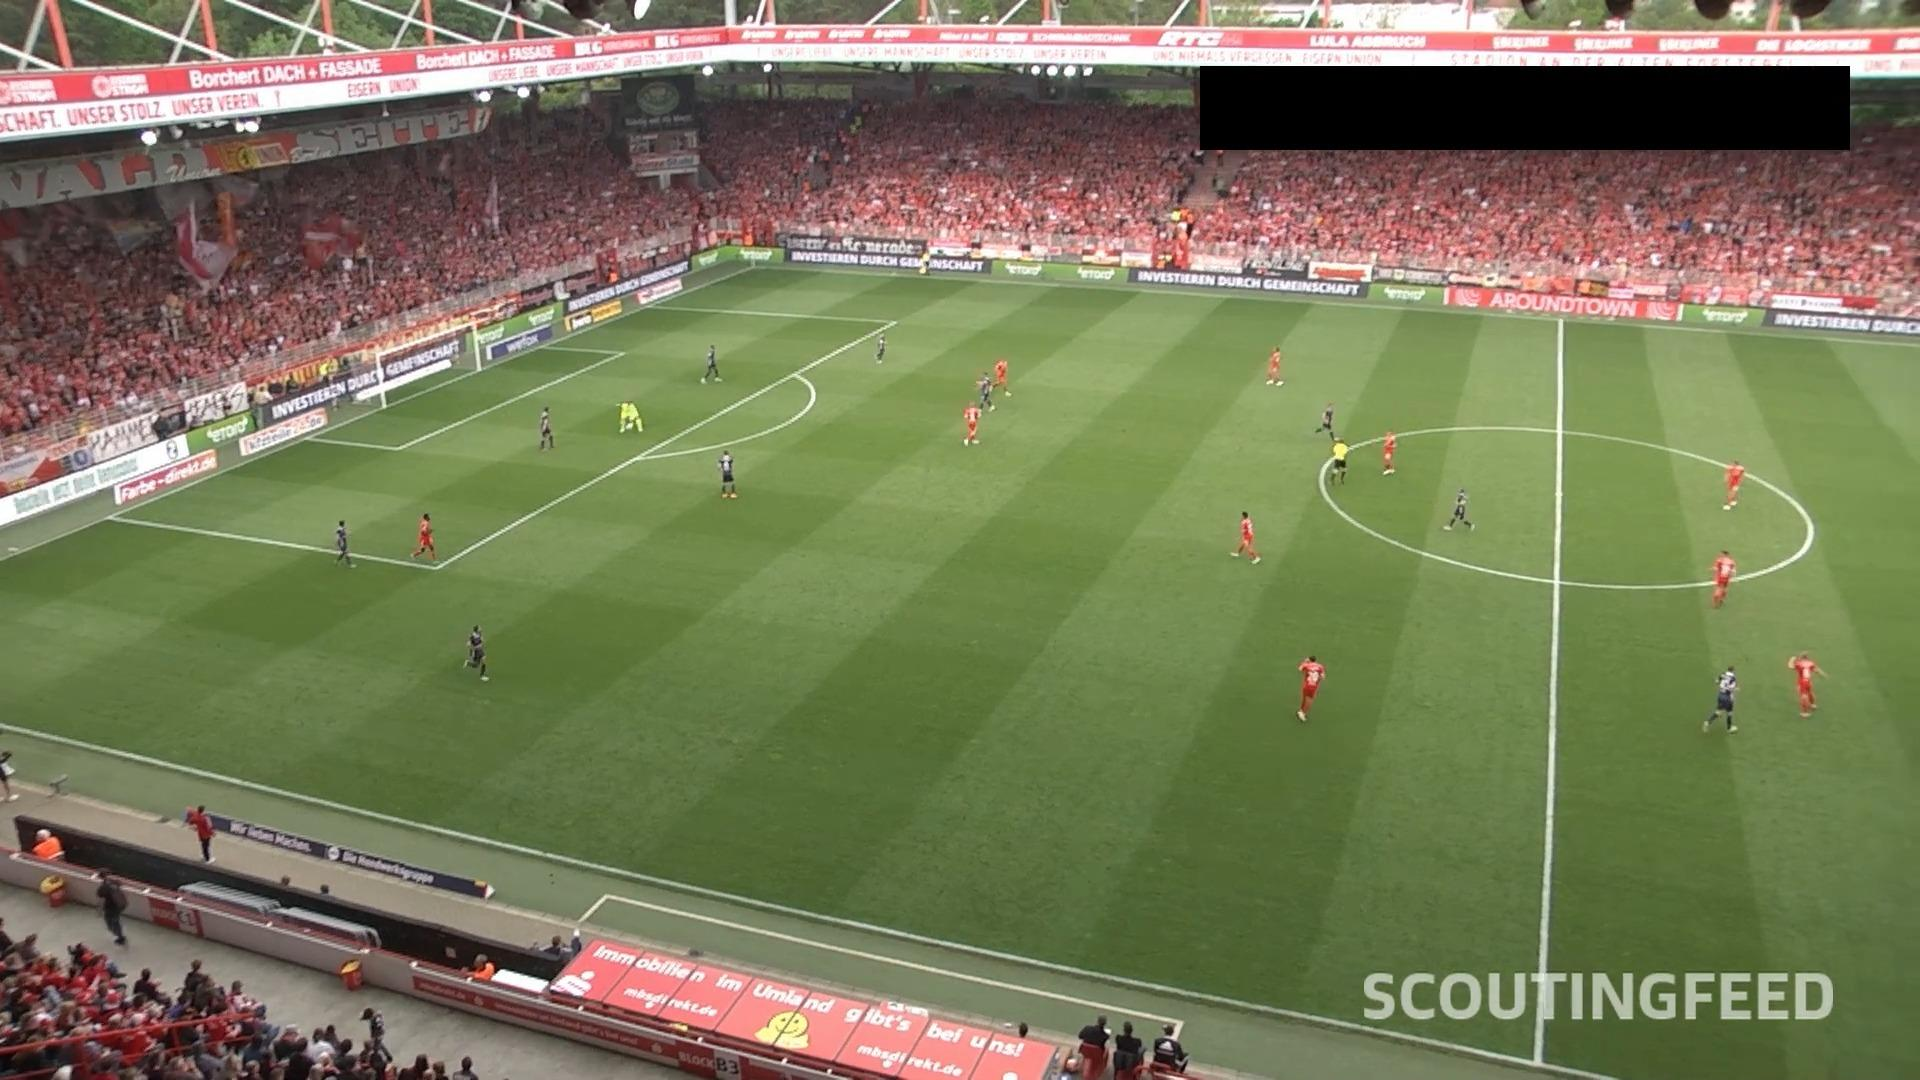ball: (625, 422, 634, 430)
